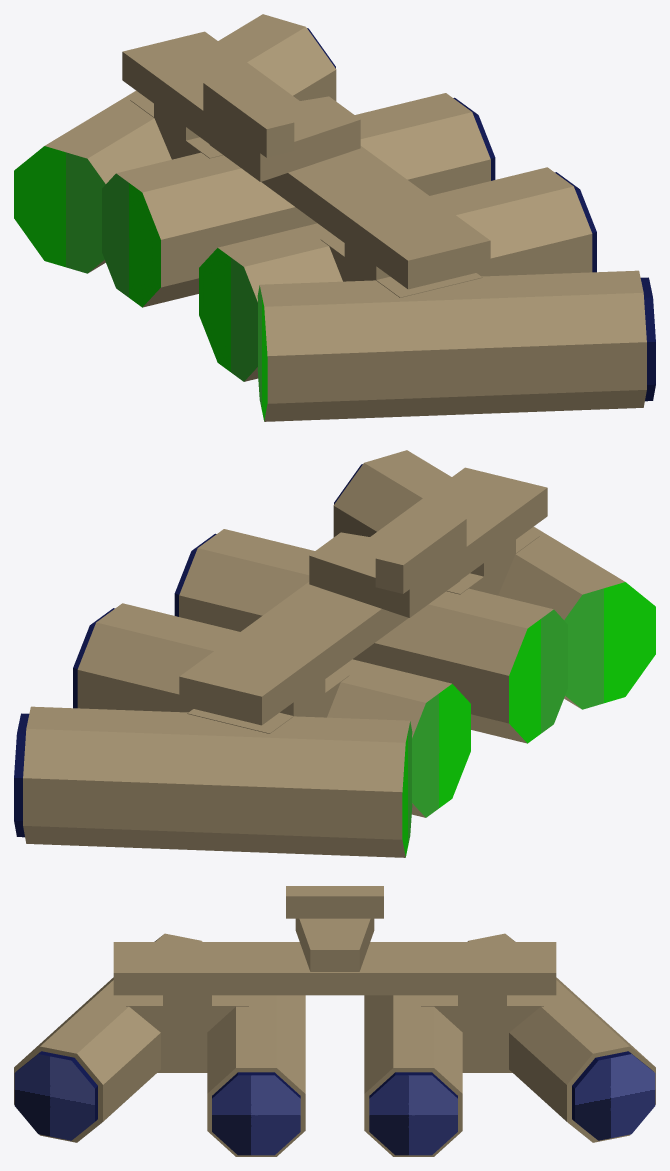
Rendered from GPNVG_Flip.obj.
The picture shows the model from 3 angles, top to bottom: view 1: azimuth 30°, elevation 25°; view 2: azimuth 150°, elevation 25°; view 3: azimuth 270°, elevation 25°; orthographic projection. The views are drawn at different scales.
Visible parts, largest first — view 1: tube_right_outer, tube_left_inner, bridge, tube_right_inner, tube_left_outer, bridge_connect, hinge, connector_right, connector_left, glass_right_outer; view 2: tube_left_outer, tube_right_inner, bridge, tube_left_inner, tube_right_outer, bridge_connect, hinge, connector_left, connector_right, glass_left_outer; view 3: bridge, tube_left_outer, tube_right_outer, tube_left_inner, tube_right_inner, glass_right_inner, glass_left_inner, glass_right_outer, glass_left_outer, connector_right, connector_left, bridge_connect (+3 smaller).
Part boxes in pixels (x1,y1,x2,y2): tube_right_outer: (257,270,646,421); tube_left_inner: (102,93,490,307); bridge: (122,31,490,289); tube_right_inner: (199,167,592,381); tube_left_outer: (14,14,336,273); bridge_connect: (209,96,360,181); hinge: (203,76,294,157); connector_right: (320,236,482,297); connector_left: (130,96,223,159); glass_right_outer: (640,277,655,401); tube_left_outer: (23,706,412,857); tube_right_inner: (179,529,567,743); bridge: (179,467,547,725); tube_left_inner: (77,603,470,817); tube_right_outer: (333,450,655,709); bridge_connect: (309,532,460,617); hinge: (375,512,466,593); connector_left: (187,672,349,733); connector_right: (446,532,539,595); glass_left_outer: (14,713,29,837); bridge: (113,942,556,995); tube_left_outer: (467,933,655,1142); tube_right_outer: (14,933,202,1142); tube_left_inner: (364,995,462,1156); tube_right_inner: (207,995,305,1156); glass_right_inner: (212,1072,300,1155); glass_left_inner: (369,1072,457,1155); glass_right_outer: (14,1051,97,1140); glass_left_outer: (572,1051,655,1140); connector_right: (126,995,248,1072); connector_left: (421,995,543,1072); bridge_connect: (295,918,374,971).
Bounding box in the file's own units: 0.2142 × 0.1172 × 0.4081.
Materials: 1 (1 with a texture image).
